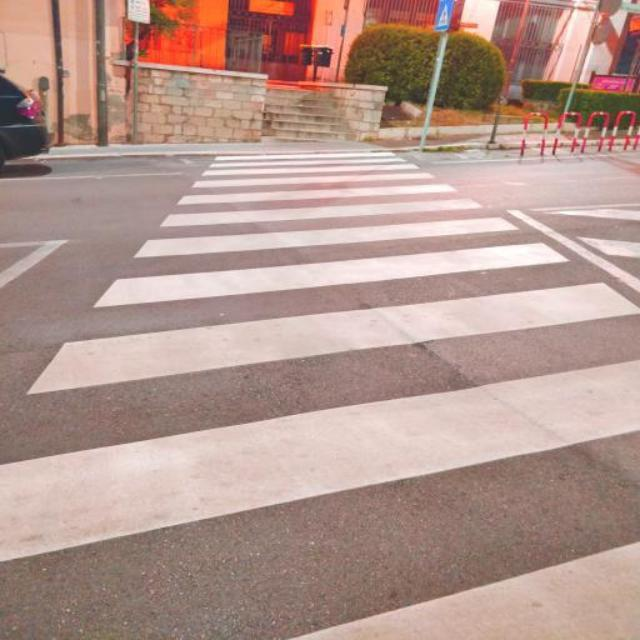sidewalk: (0, 149, 639, 640)
